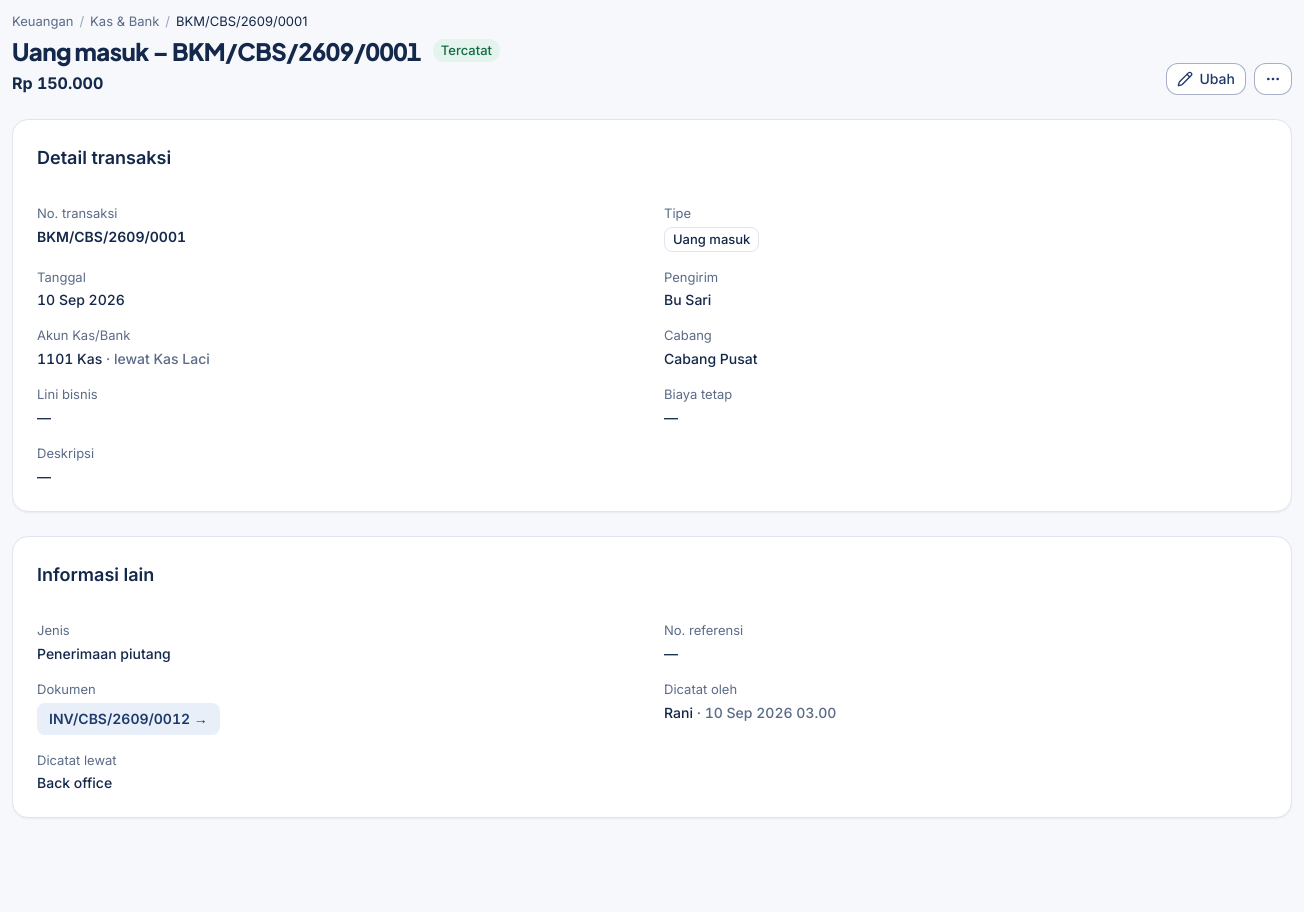
CashTransactionDetail — Ubah and Batalkan › offers both to a role holding both grants
Step 1. Click the button named "Tindakan lain" → click(1273, 79), box x1=1254 y1=63 x2=1292 y2=95
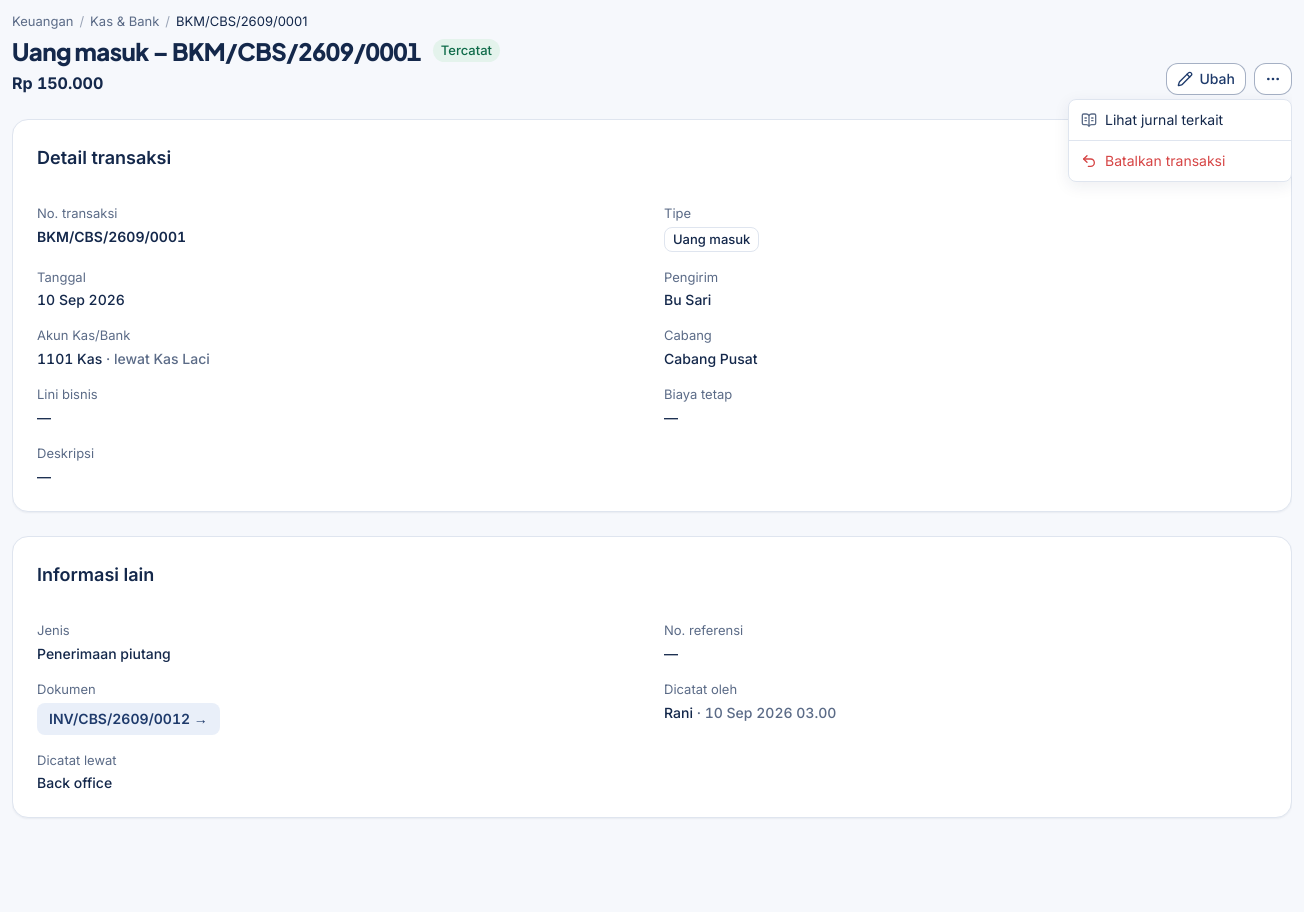
Now the menu item "Batalkan transaksi" is shown, box x1=1081 y1=152 x2=1225 y2=169
